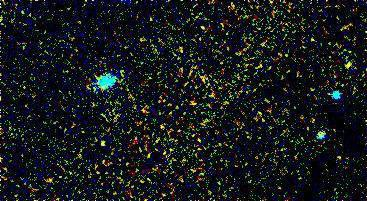star: (336, 53, 366, 83)
